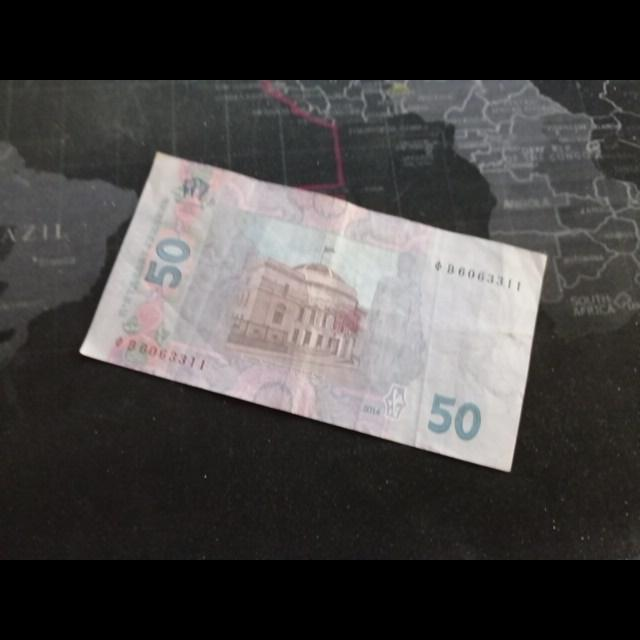50uah: (80, 151, 549, 473)
